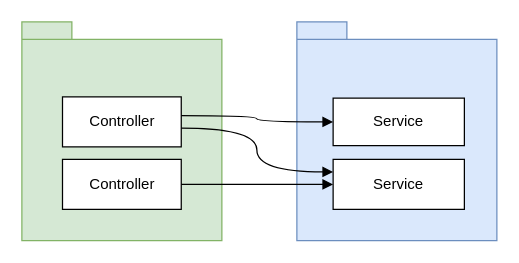
Some shapes in this 519 by 263 pixel diagram are drawn without their labels. The shapes that lost their labels are listed below. From the top down, each one's box as (x1, y1, x2, y2) in pixels, then its label:
(21, 21, 222, 241): adapter.in.web
(296, 21, 497, 241): application.service
